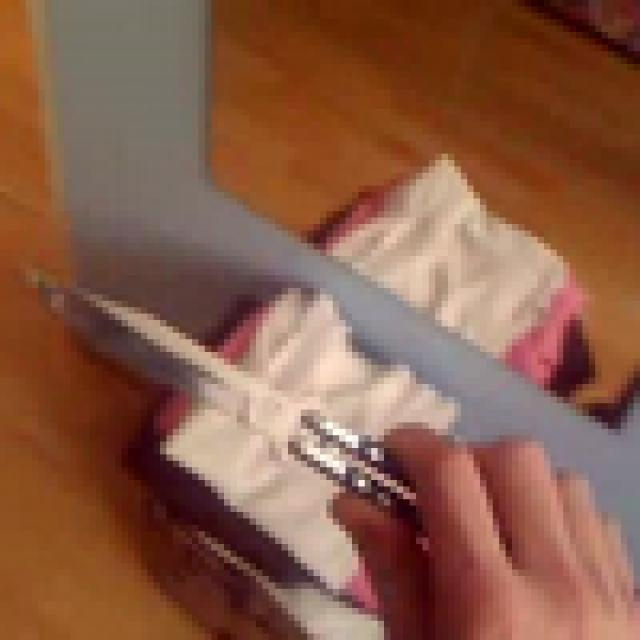knife: (32, 237, 487, 582)
